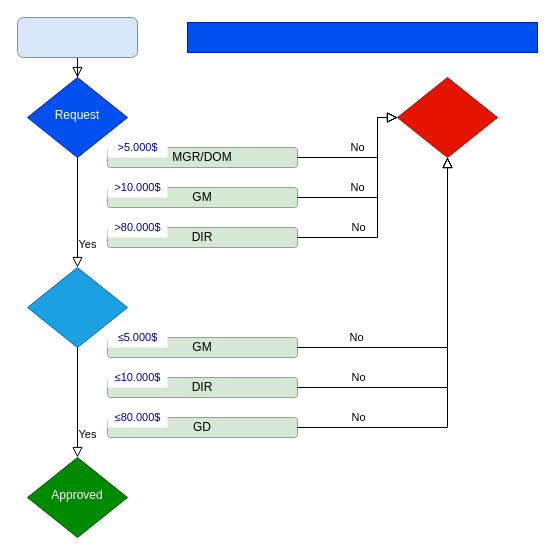
This 555x555 diagram has some shape labels left out. The shapes that lost their labels are listed below. From the top down, each one's centre as x and y in pixels, then its label:
At point 77,37: "PIC".
At point 362,37: "COST CALCULATION FLOWCHART".
At point 447,117: "Refused".
At point 77,307: "Checked".
